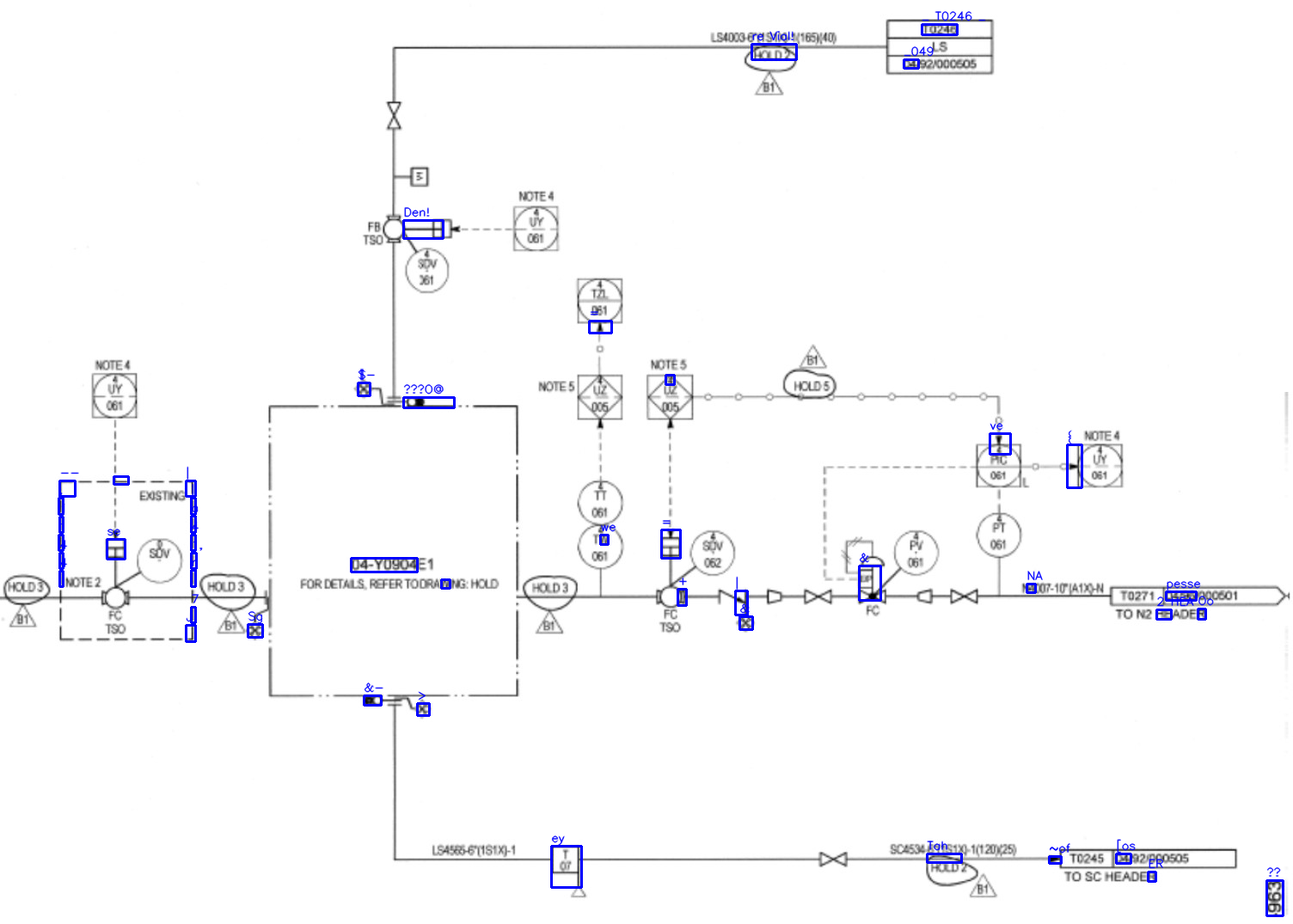Compressor: (764, 586, 785, 607), (914, 588, 935, 606)
Instrumento: (971, 441, 1025, 489), (973, 510, 1022, 560), (1075, 441, 1126, 489), (575, 478, 626, 525), (576, 523, 624, 571)
Motor: (408, 162, 432, 190)
Outro: (267, 401, 523, 699), (574, 276, 625, 327), (511, 203, 561, 254), (645, 373, 695, 424), (574, 372, 625, 421), (89, 370, 138, 420), (403, 247, 450, 296), (548, 843, 589, 898), (351, 377, 377, 401), (409, 699, 433, 720), (246, 619, 264, 643), (734, 613, 755, 633)
TrocadordeCalor: (430, 217, 455, 241), (659, 535, 683, 559), (104, 536, 127, 560)
Válvula: (687, 529, 738, 578), (136, 535, 184, 586), (892, 526, 940, 576), (855, 554, 889, 607), (378, 213, 408, 247), (652, 583, 688, 609), (98, 584, 132, 611), (383, 98, 404, 133), (801, 585, 833, 607), (816, 848, 849, 868), (948, 585, 980, 605), (715, 588, 750, 606)
